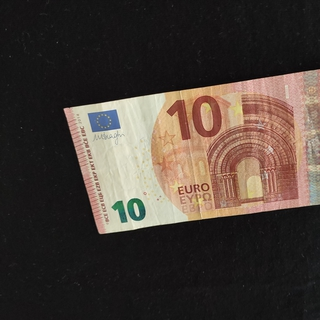10EUROFront: (62, 64, 320, 235)
